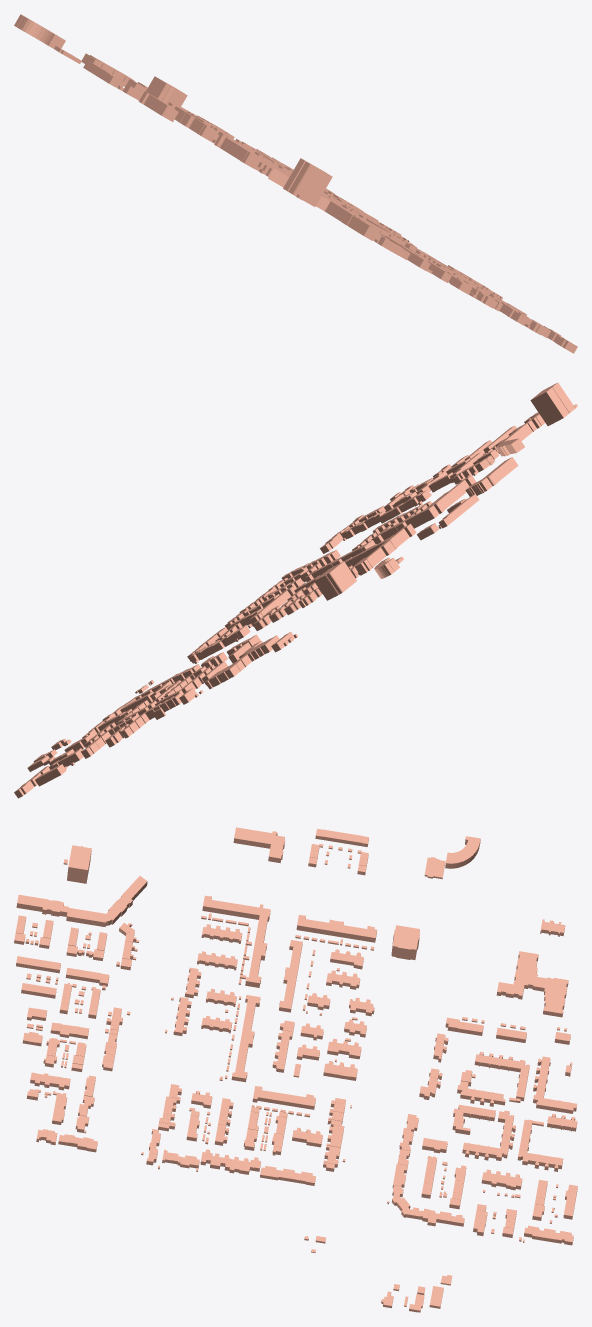
The picture shows the model from 3 angles, top to bottom: view 1: azimuth 30°, elevation 25°; view 2: azimuth 150°, elevation 25°; view 3: azimuth 270°, elevation 25°; orthographic projection. The views are drawn at different scales.
Size of the model in its own units: 469 by 379 by 621.
